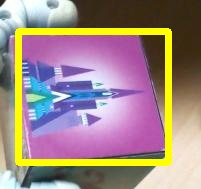Castle4: (18, 31, 168, 162)
